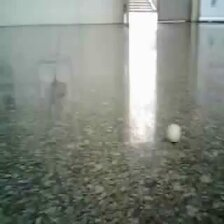w: (165, 122, 182, 143)
